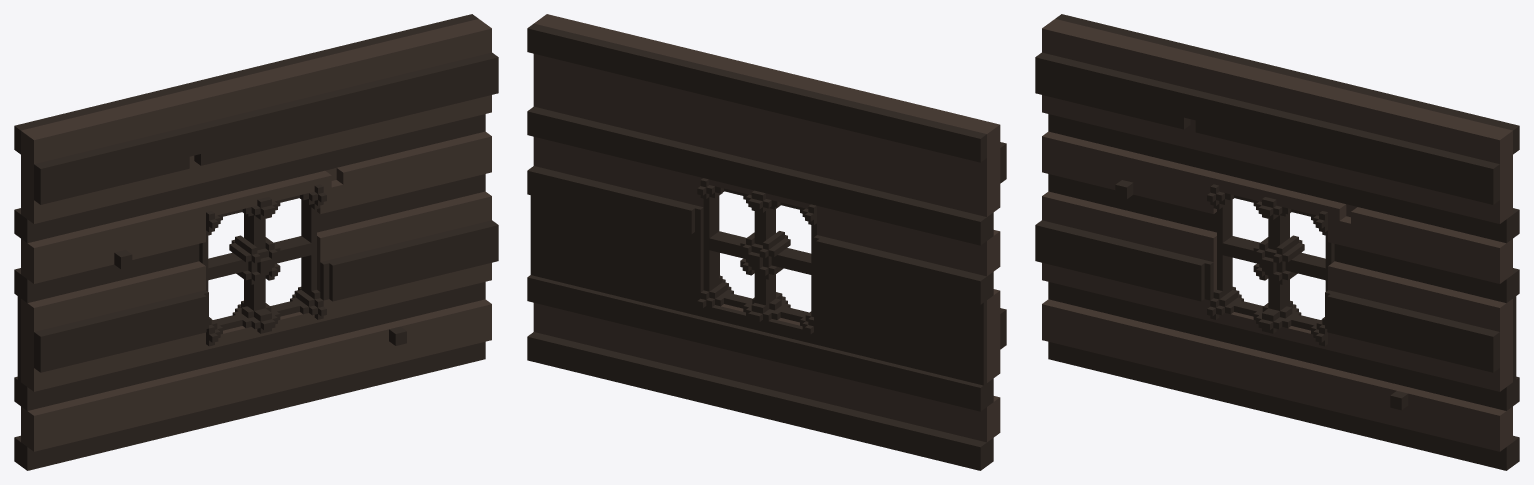
The model's file is WallWindowFrame.obj.
The picture shows the model from 3 angles, left to right: view 1: azimuth 30°, elevation 25°; view 2: azimuth 150°, elevation 25°; view 3: azimuth 330°, elevation 25°; orthographic projection.
Size of the model in its own units: 8 by 5.6 by 0.8.
1 material, 1 textured.
